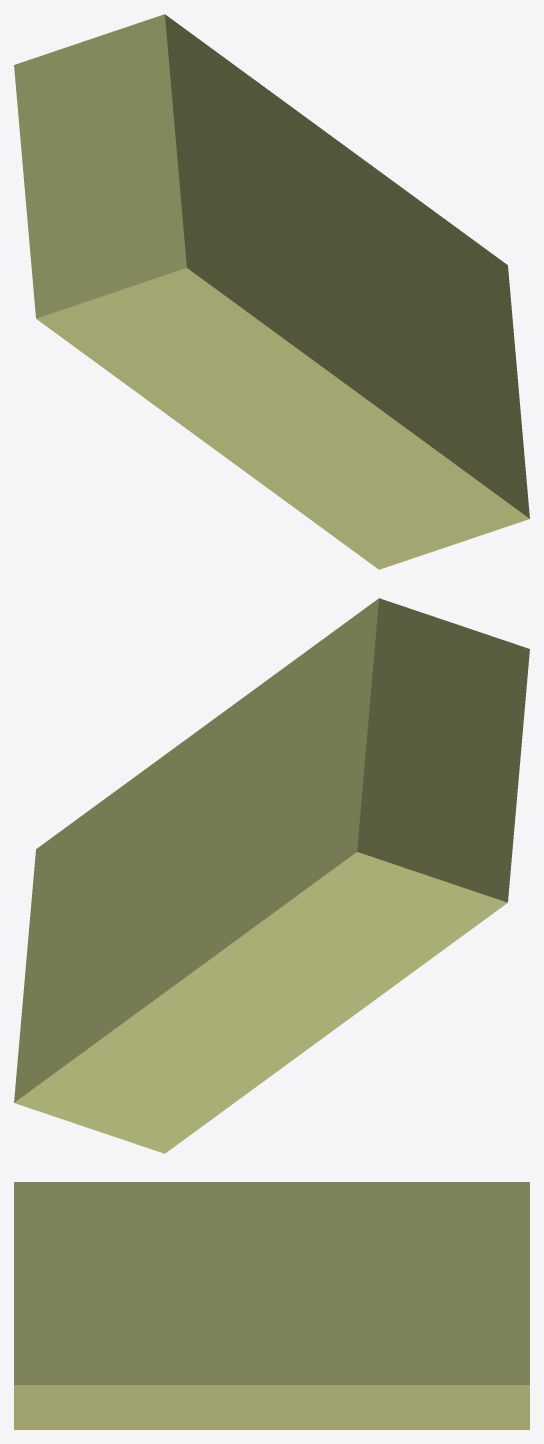
The picture shows the model from 3 angles, top to bottom: view 1: azimuth 30°, elevation 25°; view 2: azimuth 150°, elevation 25°; view 3: azimuth 270°, elevation 25°; orthographic projection. The views are drawn at different scales.
Visible parts, largest first — view 1: 0_2_3_3_3_1_0_3_1_1_3_2; view 2: 0_2_3_3_3_1_0_3_1_1_3_2; view 3: 0_2_3_3_3_1_0_3_1_1_3_2.
Part boxes in pixels (box(x1,y1,x2,y2)): 0_2_3_3_3_1_0_3_1_1_3_2: box(14, 14, 529, 569); 0_2_3_3_3_1_0_3_1_1_3_2: box(14, 598, 529, 1153); 0_2_3_3_3_1_0_3_1_1_3_2: box(14, 1182, 529, 1429).
Bounding box in the file's own units: 1.75 × 2.64 × 6.
